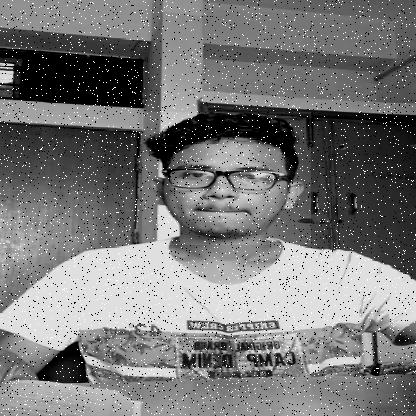Normal: (142, 112, 311, 245)
